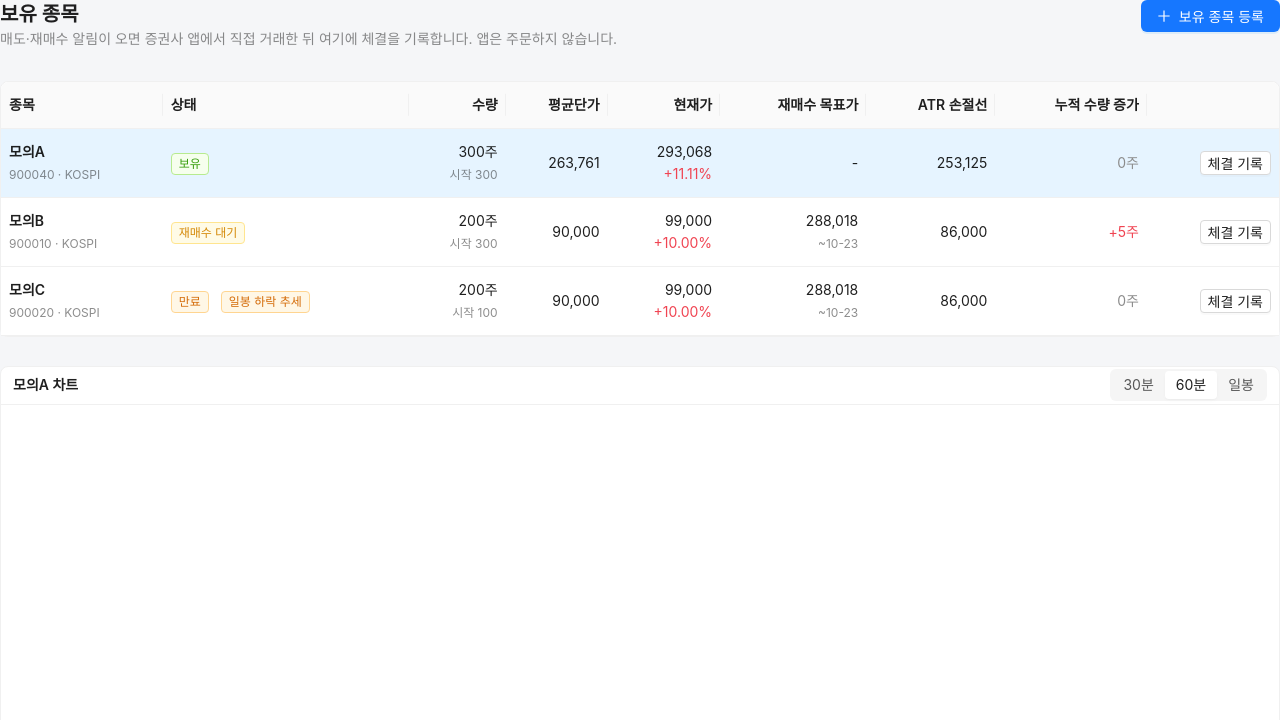
HoldingsPage › recording a fill › offers the rebuy side by hand for a holding that is waiting
The width and height of the screenshot is (1280, 720).
Click the button with aria-label "모의B 체결 기록" at {"x": 1235, "y": 232}, box [1200, 220, 1271, 244]
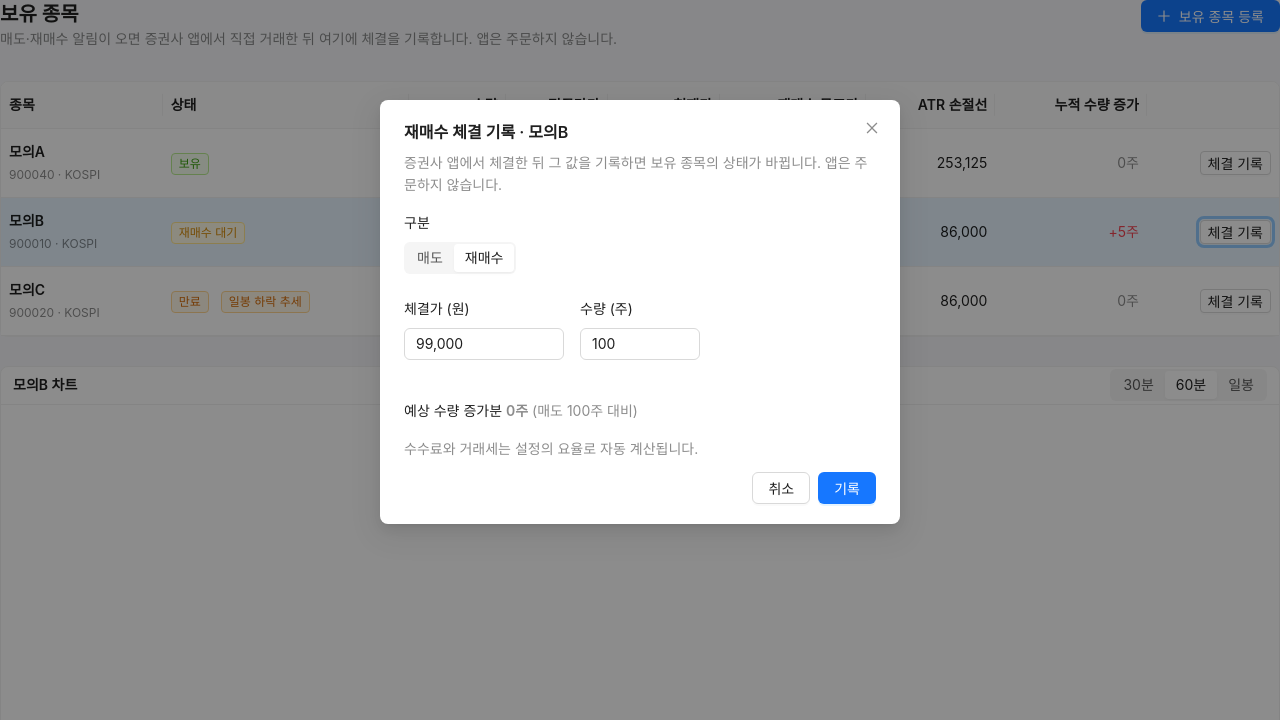
Now the number field labelled "수량 (주)" holds "100", box [581, 329, 699, 359]
